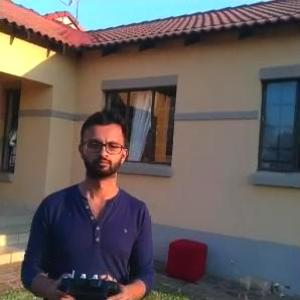follow: (10, 104, 157, 299)
null: (224, 260, 292, 299)
